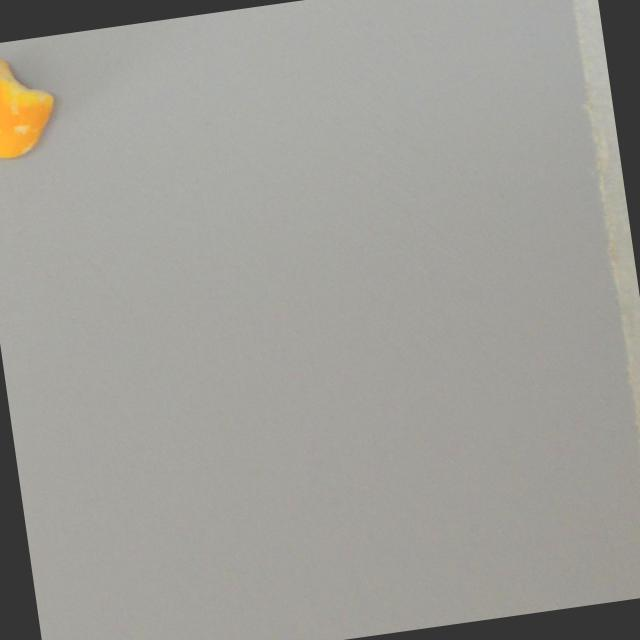dañado: (0, 46, 65, 164)
